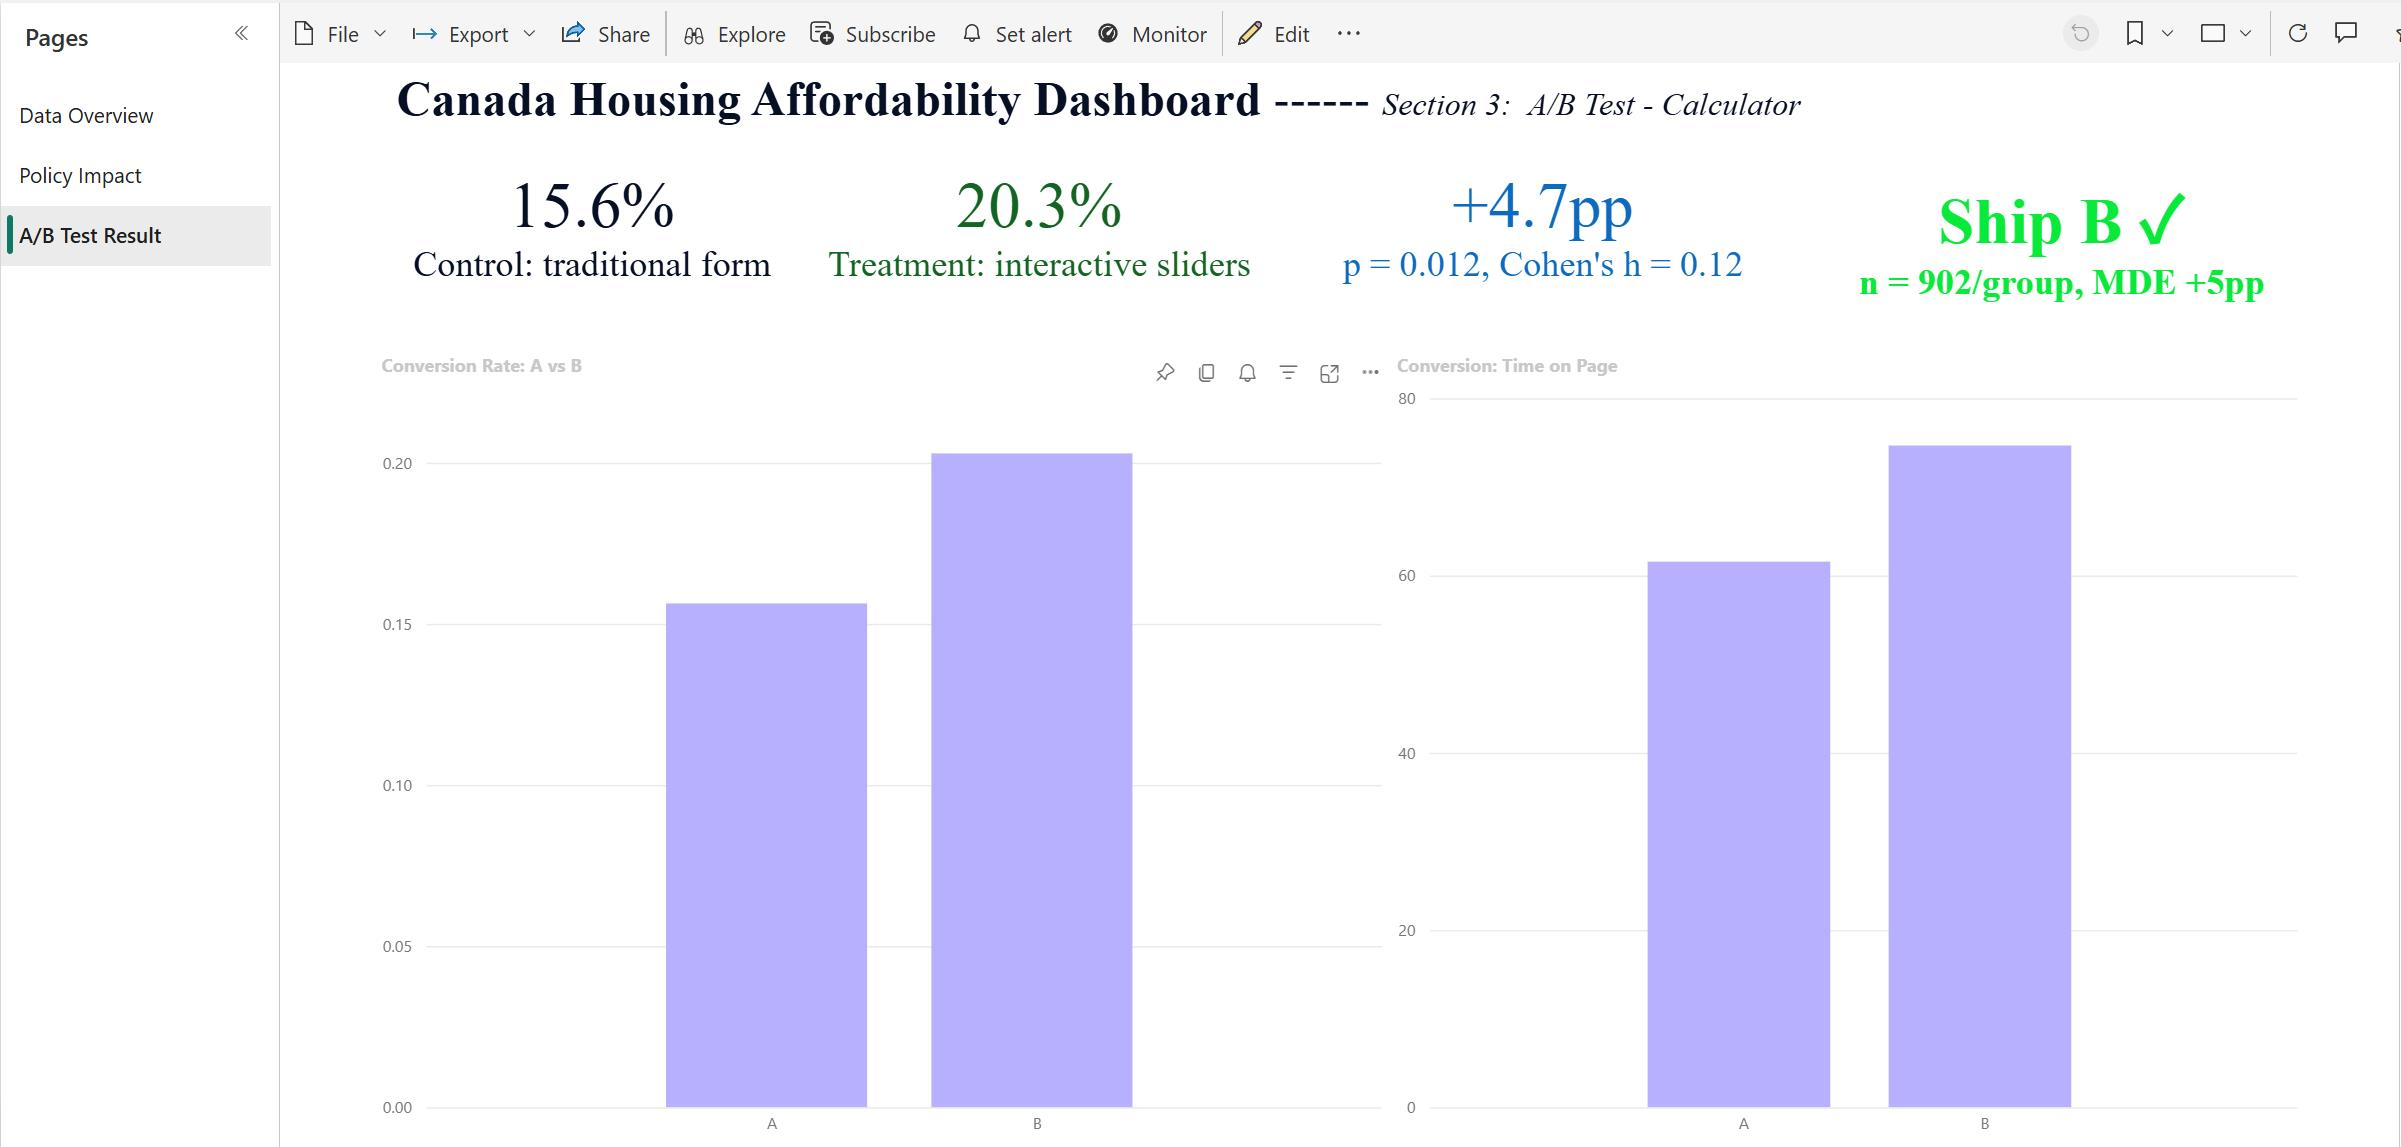

The page's visual inventory and layout, read from the dashboard file:
{"tool":"powerbi","page":{"name":"A/B Test Result","canvas":[1280,720],"ordinal":2},"visuals":[{"type":"textbox","box":[9.6,0,1270.8,64.8],"z":0},{"type":"textbox","box":[0,64.8,289.2,127.2],"z":1},{"type":"textbox","box":[289.2,64.8,303.6,127.2],"z":2},{"type":"textbox","box":[592.8,64.8,364.8,127.2],"z":3},{"type":"textbox","box":[957.6,64.8,322.8,127.2],"z":4},{"type":"columnChart","title":"Conversion Rate: A vs B","fields":{"Category":["ab_test_data.group"],"Y":["Avg(ab_test_data.converted)"]},"box":[0,192,673.2,528],"z":5},{"type":"columnChart","title":"Conversion: Time on Page","fields":{"Category":["ab_test_data.group"],"Y":["Avg(ab_test_data.time_on_page)"]},"box":[673.2,192,607.2,528],"z":6}]}

Visuals, with their boxes on the page's 1280x720 design canvas (x1, y1, x2, y2). These are canvas units, not pixel positions in the 2401x1147 screenshot, which may show the page scaled, cropped or inside an application window:
textbox: <box>10,0,1280,65</box>
textbox: <box>0,65,289,192</box>
textbox: <box>289,65,593,192</box>
textbox: <box>593,65,958,192</box>
textbox: <box>958,65,1280,192</box>
"Conversion Rate: A vs B" columnChart: <box>0,192,673,720</box>
"Conversion: Time on Page" columnChart: <box>673,192,1280,720</box>
